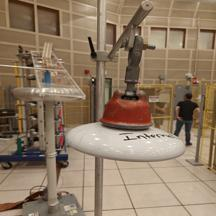insulator: (61, 84, 197, 171)
